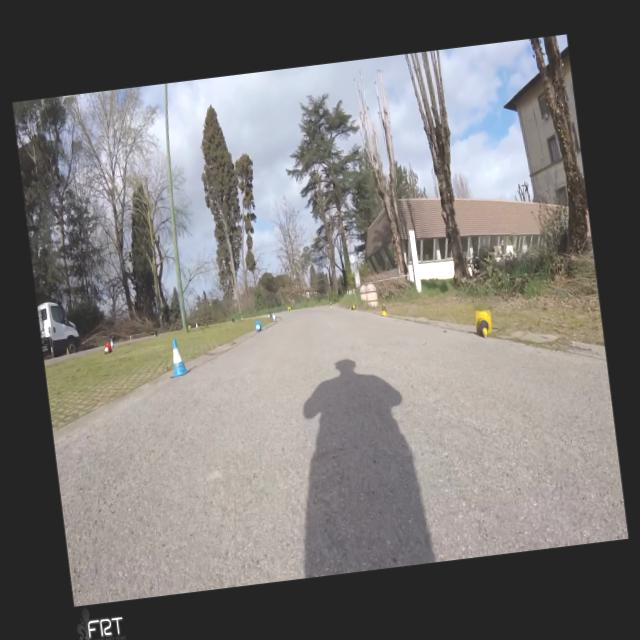blue_cone: (165, 336, 190, 378), (254, 321, 262, 332), (271, 312, 276, 322), (110, 337, 114, 347), (267, 312, 271, 316), (195, 322, 197, 328)
orange_cone: (103, 341, 112, 354)
yellow_cone: (473, 308, 493, 338), (378, 301, 386, 317), (348, 304, 355, 310), (328, 301, 332, 308), (66, 347, 69, 355), (287, 306, 291, 311), (188, 325, 191, 329)
